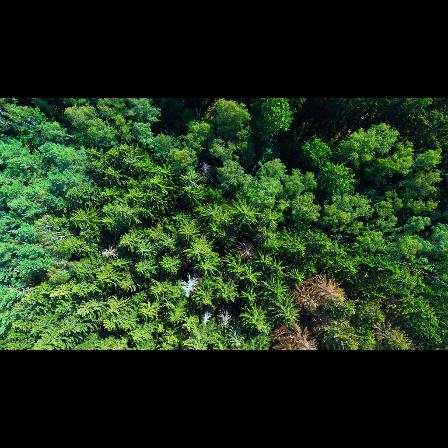Dead: (297, 274, 348, 309), (268, 321, 314, 350), (177, 272, 200, 299), (238, 242, 257, 261), (221, 303, 234, 326), (198, 158, 215, 175), (202, 304, 213, 327)
